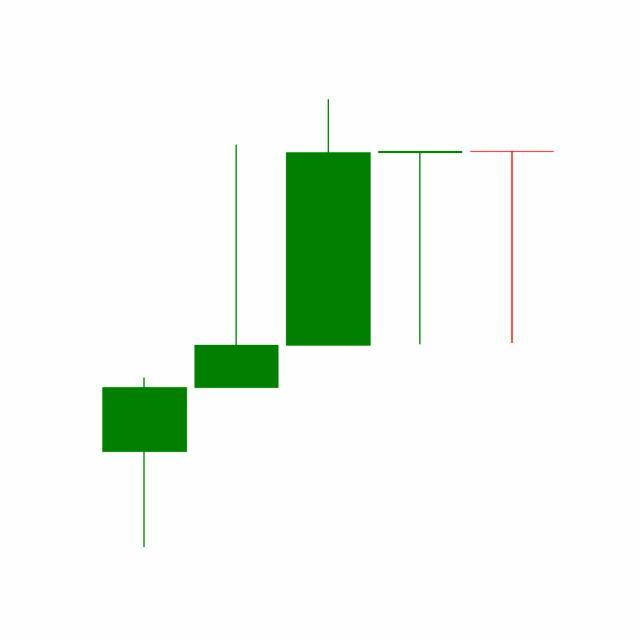Hanging Man: (466, 150, 559, 347)
